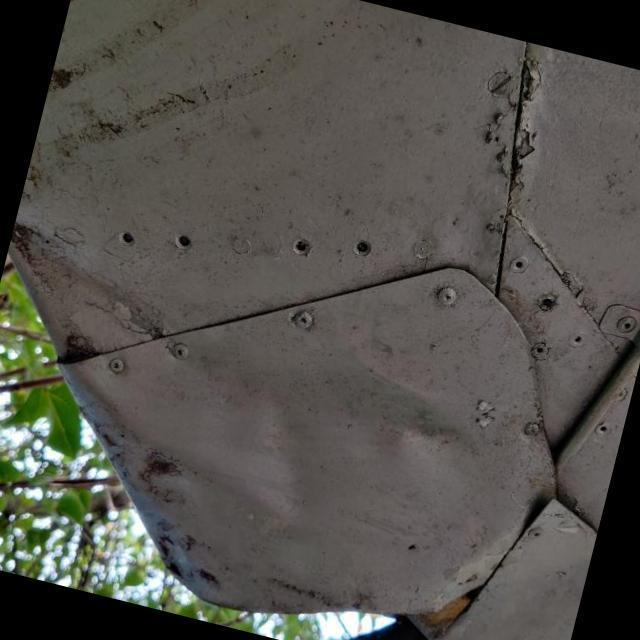Dent: (0, 202, 525, 598)
